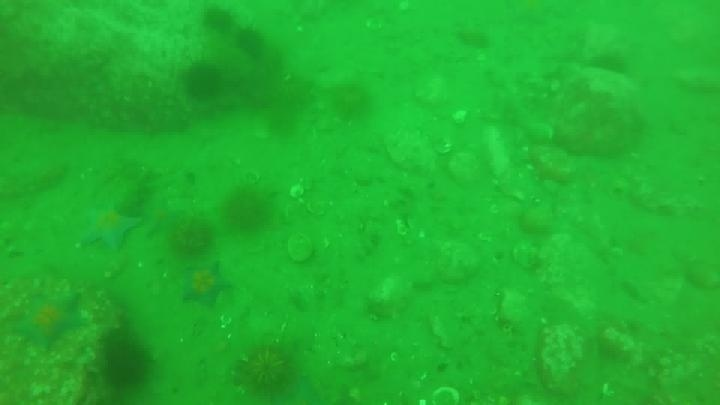echinus: (232, 341, 299, 397), (97, 330, 155, 392), (222, 184, 274, 234), (167, 215, 216, 259), (328, 81, 375, 123), (181, 60, 225, 104), (233, 26, 268, 61), (589, 49, 630, 78), (452, 24, 493, 53), (199, 5, 237, 35)
starfish: (12, 289, 87, 352), (79, 203, 142, 253), (178, 260, 234, 310), (139, 196, 185, 239)
